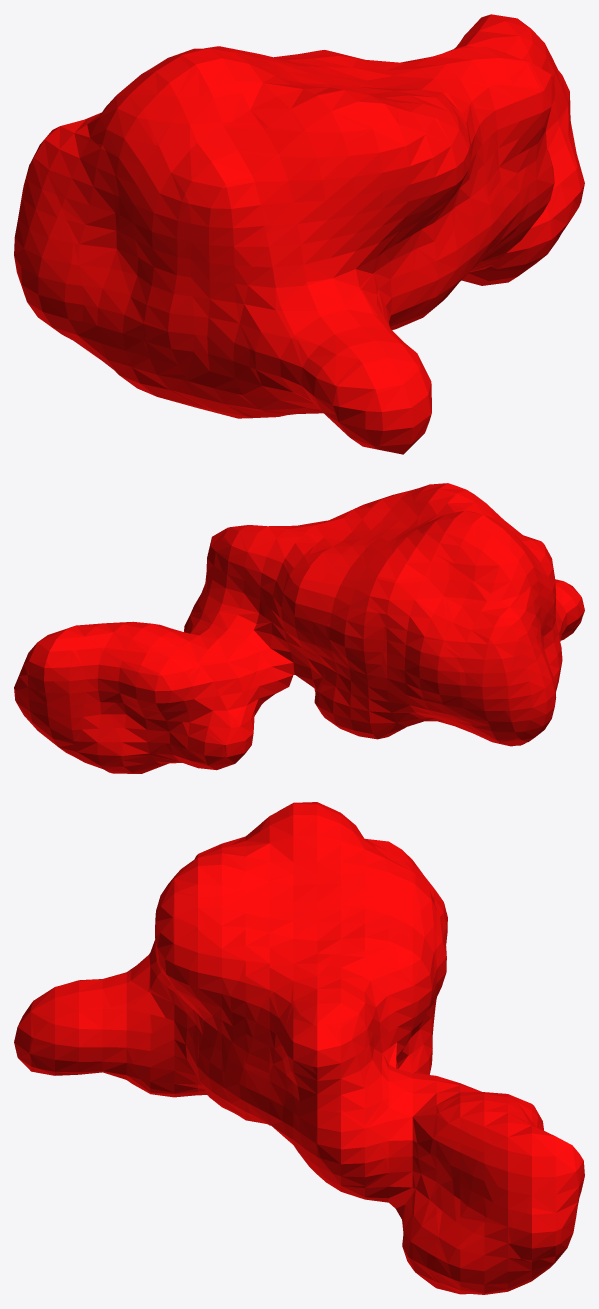
The model's file is holD_coarse.dae.
The picture shows the model from 3 angles, top to bottom: view 1: azimuth 30°, elevation 25°; view 2: azimuth 150°, elevation 25°; view 3: azimuth 270°, elevation 25°; orthographic projection. The views are drawn at different scales.
Parts seen in each view (by area): view 1: holD; view 2: holD; view 3: holD.
Boxes of the visible parts, x1,y1,x2,y2 form: holD: (14, 14, 584, 454); holD: (14, 483, 584, 773); holD: (14, 802, 584, 1294).
Size of the model in its own units: 65.18 by 36.85 by 58.72.
